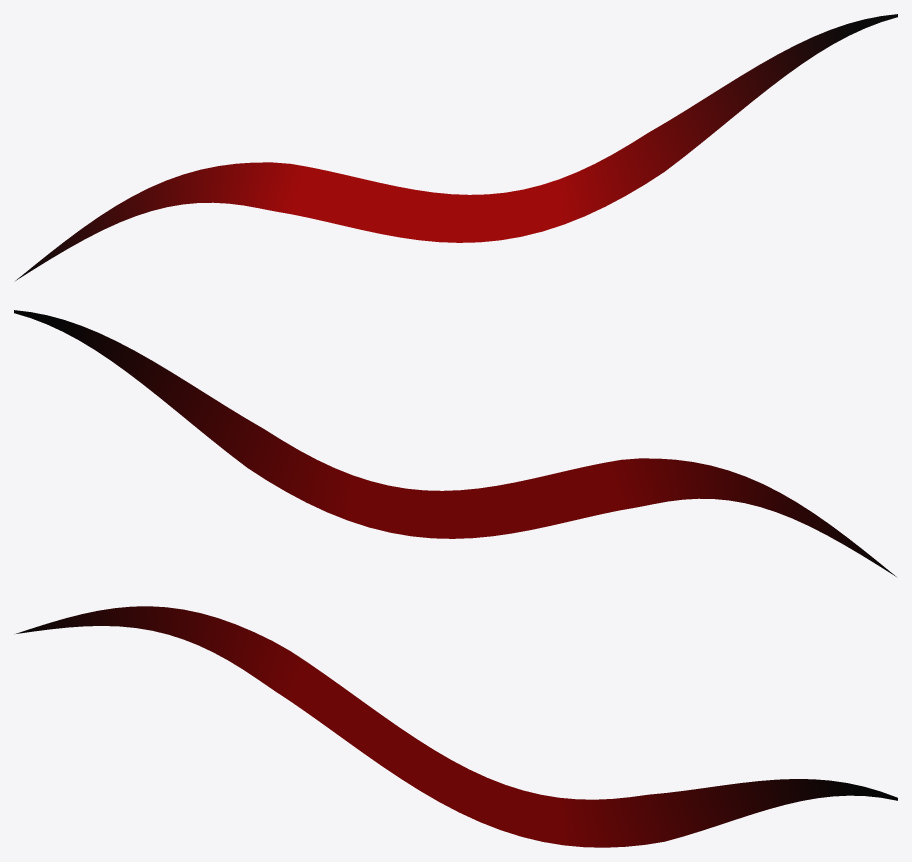
Rendered from SM_Trail001.fbx.
3 renders of one model, top to bottom at view 1: azimuth 30°, elevation 25°; view 2: azimuth 150°, elevation 25°; view 3: azimuth 330°, elevation 25°, orthographic.
Parts seen in each view (by area): view 1: transform1; view 2: transform1; view 3: transform1.
Part boxes in pixels (left/top/right/bottom): transform1: left=15, top=14, right=897, bottom=280; transform1: left=14, top=310, right=896, bottom=576; transform1: left=14, top=606, right=897, bottom=847.
Size of the model in its own units: 98.9 by 15.54 by 0.
